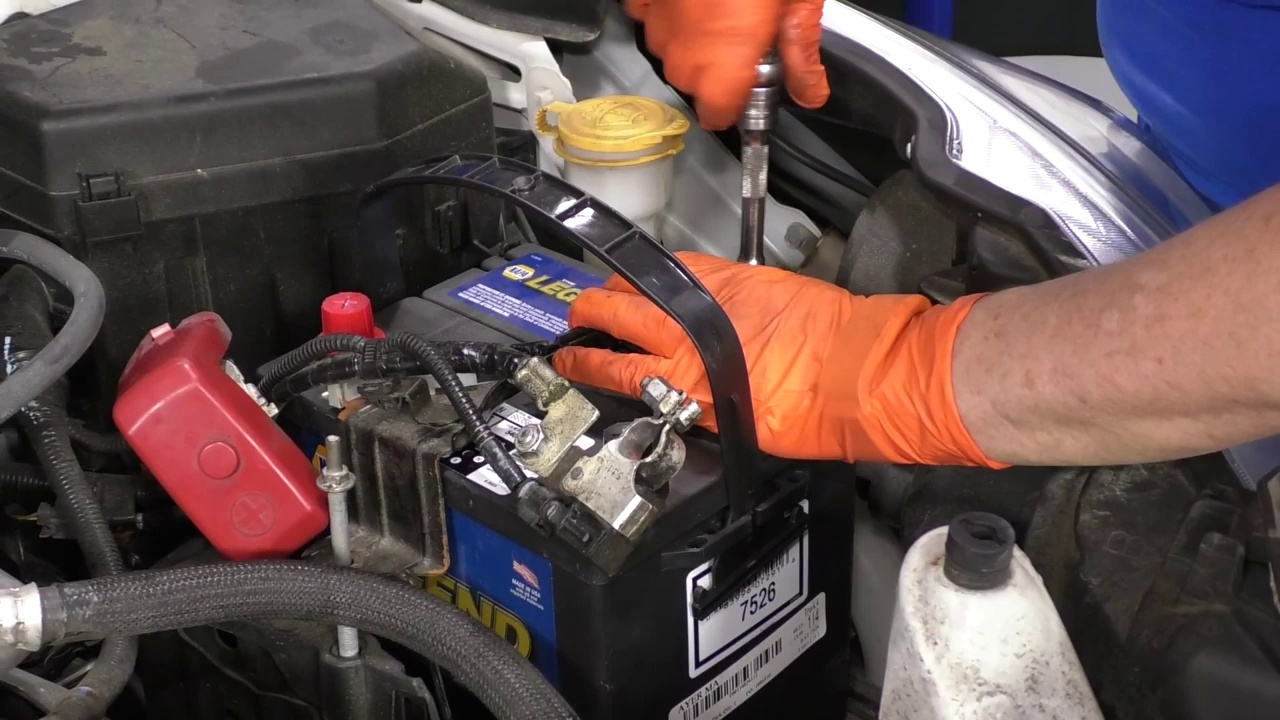battery: (291, 236, 786, 522)
